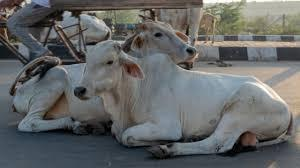cow: (73, 31, 294, 157), (8, 7, 199, 132)
